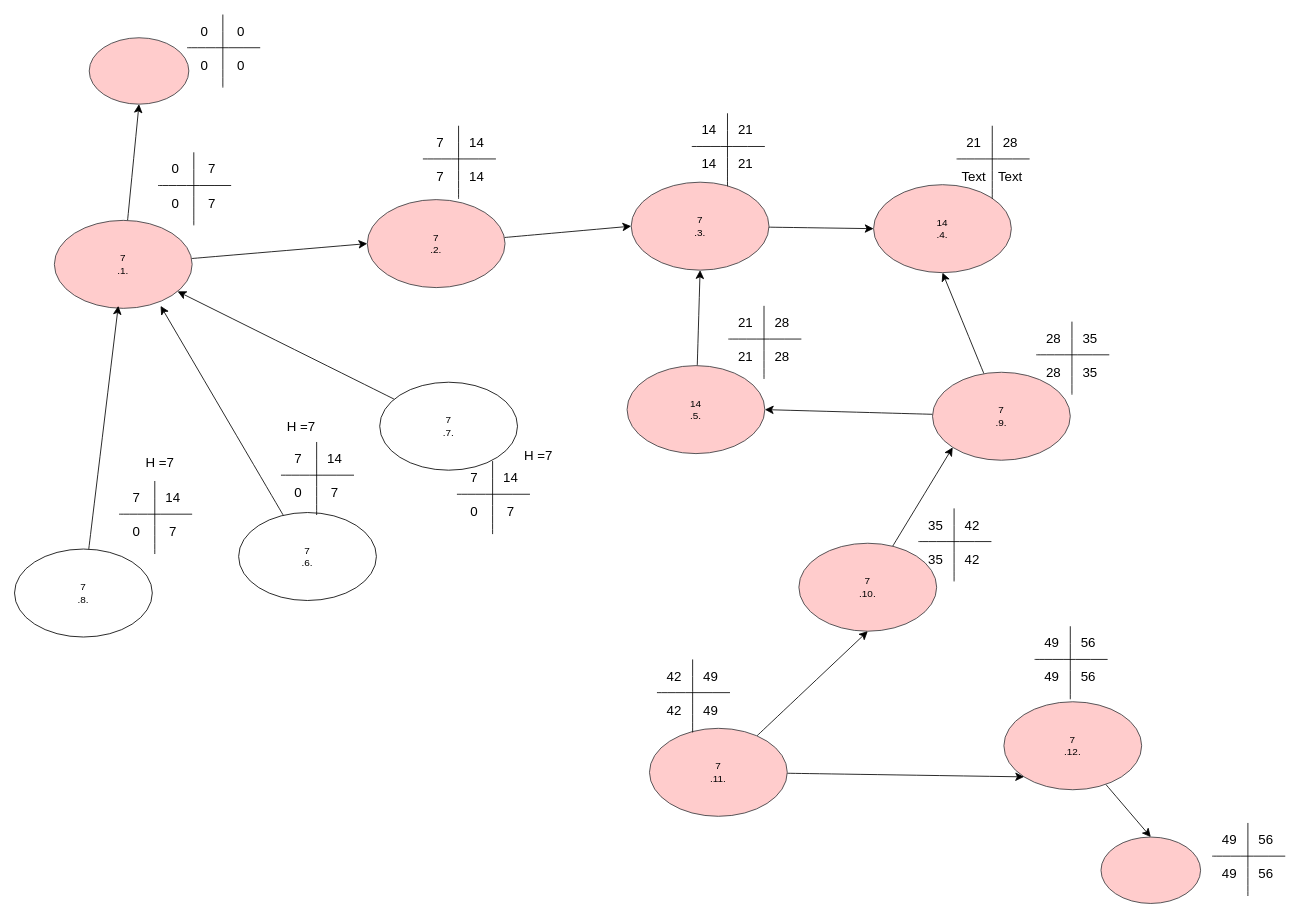
The diagram is 1301 pixels wide and 918 high, and some of its shapes have lost their labels. Here are the shapes that lost their labels. From the top down, the centre of each, then its label:
point (138, 70): INICIO
point (1150, 869): FIN
